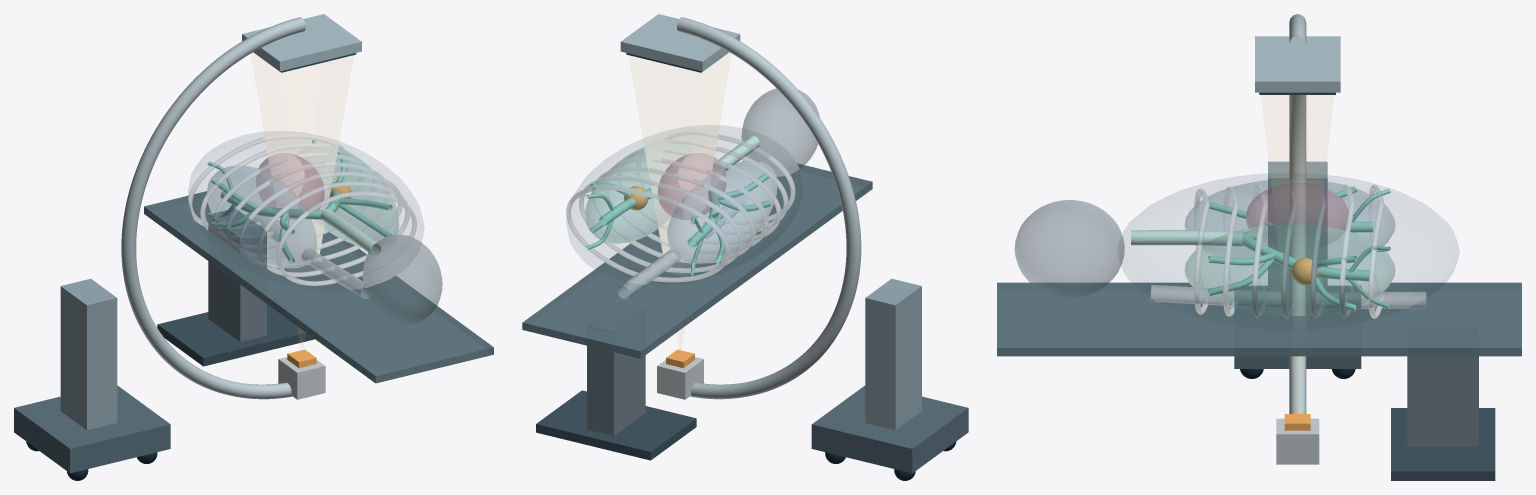
File: mobile-cbct-suite.glb
3 views of the same model, side by side, from view 1: azimuth 30°, elevation 25°; view 2: azimuth 150°, elevation 25°; view 3: azimuth 270°, elevation 25° (orthographic). The views are drawn at different scales.
Visible parts, largest first — view 1: Teaching radiolucent table, Authored thorax and airway, mobile schematic support, Authored source detector C-arm, Schematic right lung, Schematic left lung; view 2: Teaching radiolucent table, Authored thorax and airway, mobile schematic support, Authored source detector C-arm, Schematic right lung, Schematic left lung; view 3: Teaching radiolucent table, Authored thorax and airway, Schematic left lung, Authored source detector C-arm, mobile schematic support, Schematic right lung.
Part boxes in pixels (x1,y1,x2,y2): Teaching radiolucent table: (144,191,493,383); Authored thorax and airway: (188,132,442,324); mobile schematic support: (14,278,170,480); Authored source detector C-arm: (121,14,361,399); Schematic right lung: (207,166,316,267); Schematic left lung: (298,147,398,245); Teaching radiolucent table: (522,160,872,460); Authored thorax and airway: (566,88,819,299); mobile schematic support: (811,278,968,480); Authored source detector C-arm: (620,14,861,399); Schematic right lung: (667,161,777,263); Schematic left lung: (585,141,691,243); Teaching radiolucent table: (997,282,1521,480); Authored thorax and airway: (1014,174,1459,329); Schematic left lung: (1185,224,1395,315); Authored source detector C-arm: (1255,14,1340,464); mobile schematic support: (1234,161,1361,378); Schematic right lung: (1185,179,1395,245).
Bounding box in the file's own units: 0.3 × 0.3165 × 0.343.
